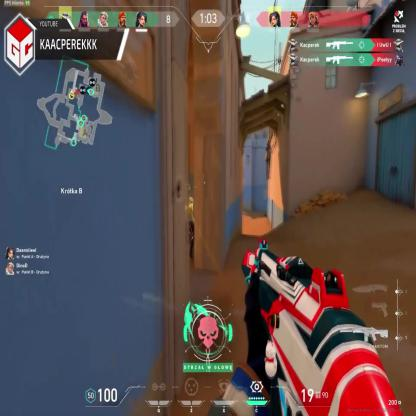enemy: (178, 184, 194, 261)
enemy_head: (184, 184, 191, 200)
